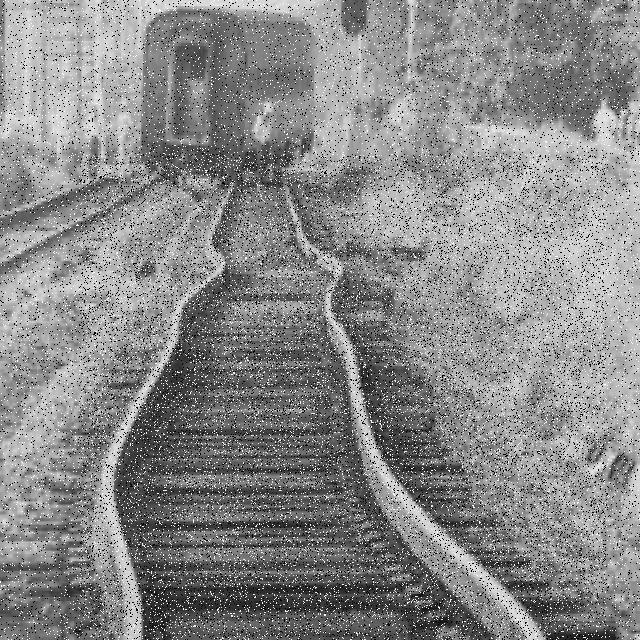rail: (65, 177, 606, 640), (0, 167, 165, 293)
